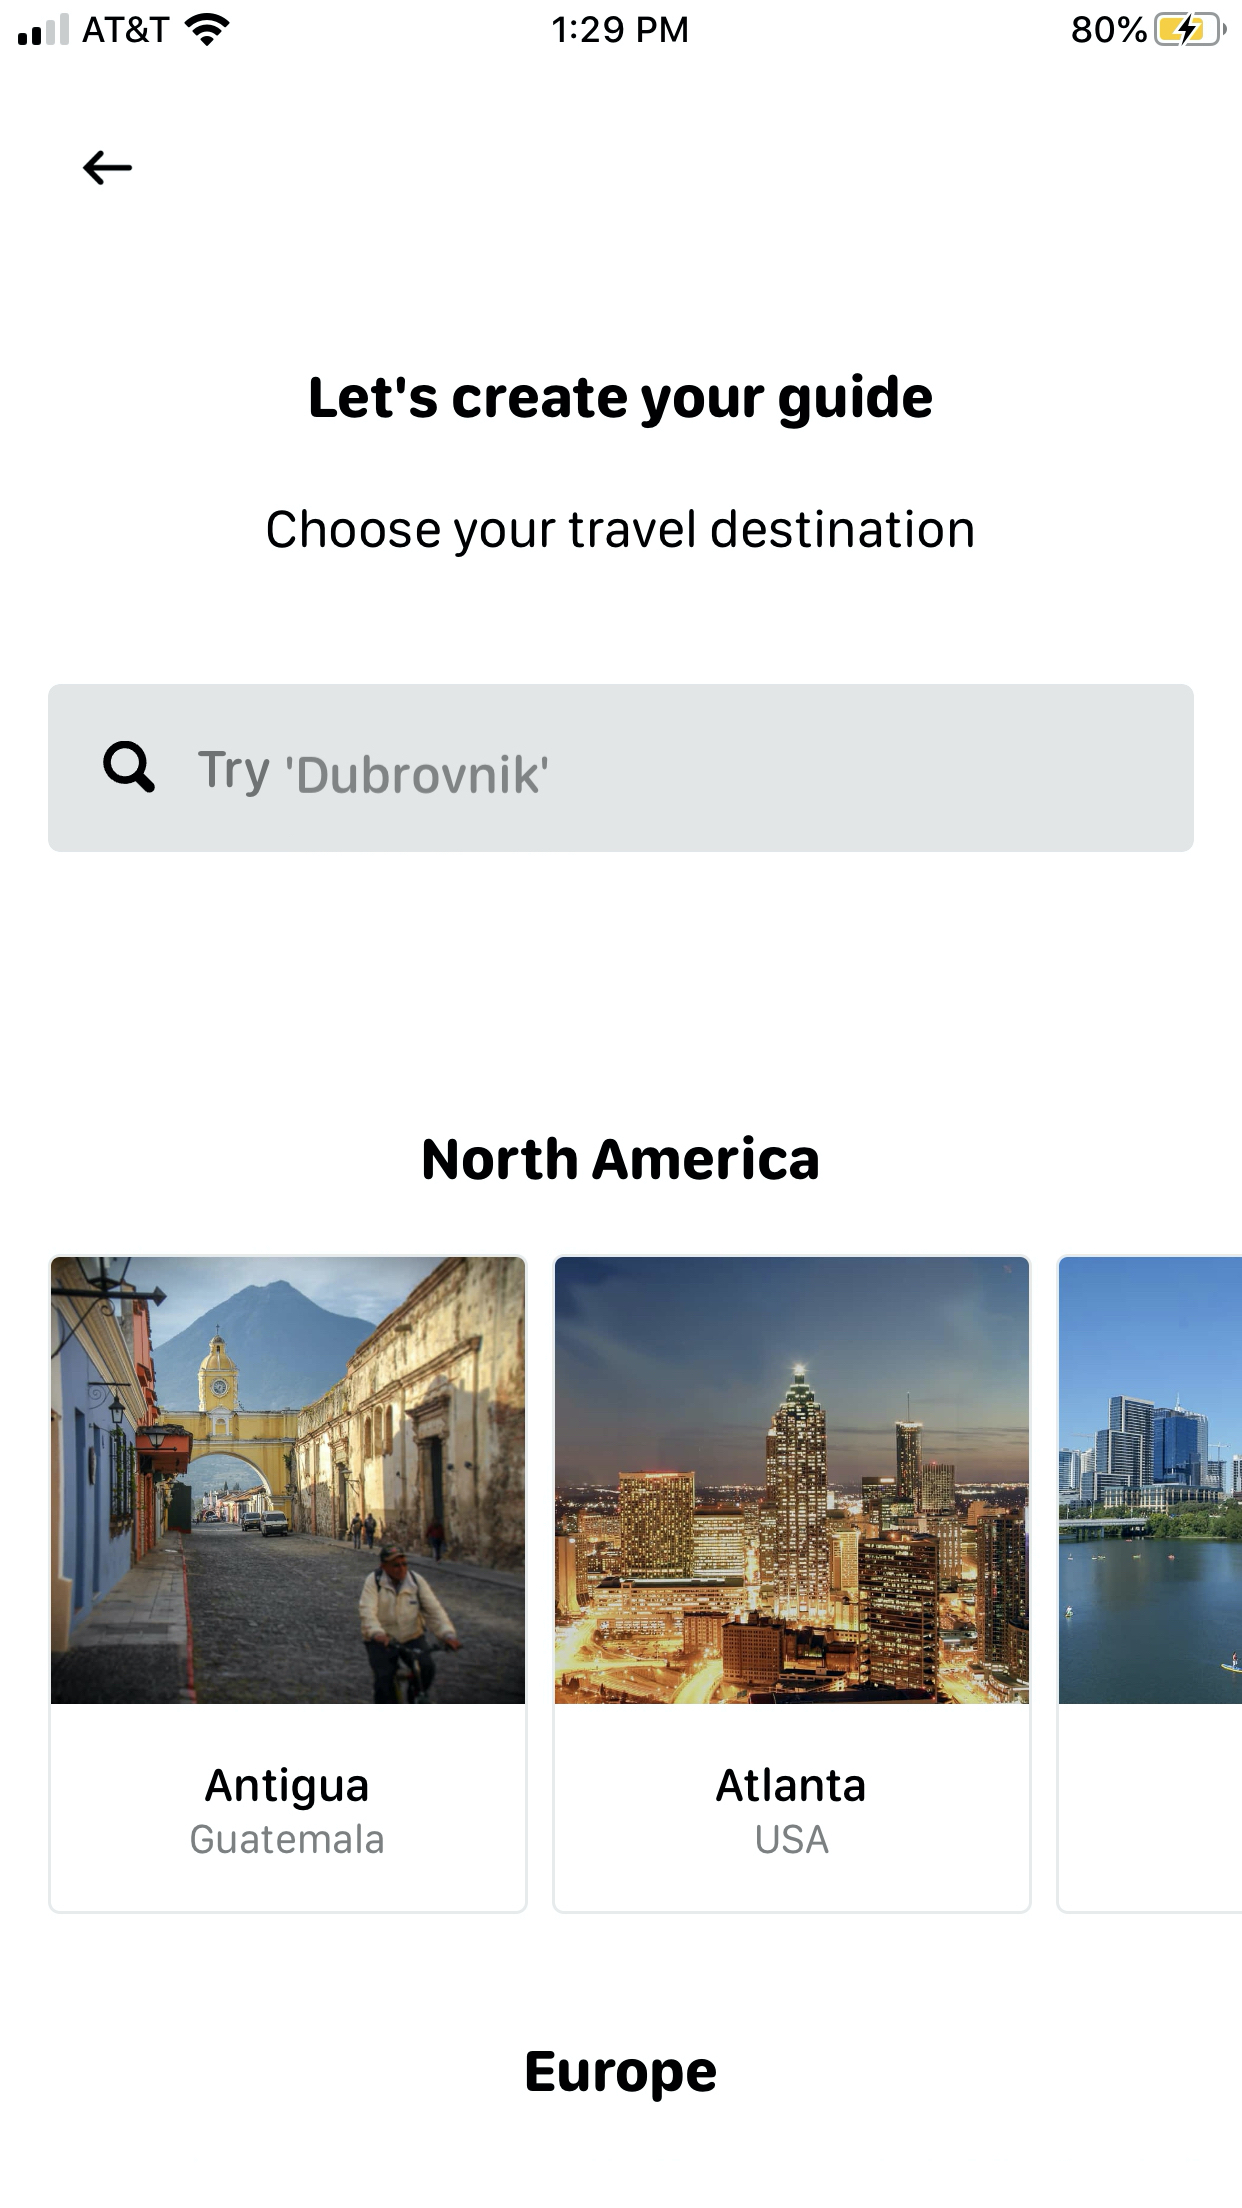EditText: (49, 684, 1193, 852)
Icon: (103, 742, 156, 795), (83, 152, 133, 187)
Image: (555, 1257, 1030, 1705), (52, 1257, 526, 1705), (1059, 1257, 1242, 1705)
Text: (311, 372, 933, 431), (268, 510, 974, 558), (423, 1134, 819, 1181), (199, 751, 549, 798), (528, 2050, 717, 2102), (205, 1767, 369, 1811), (191, 1823, 384, 1855), (716, 1767, 866, 1802), (757, 1823, 830, 1855)
UpperTaskBar: (2, 2, 1242, 49)
